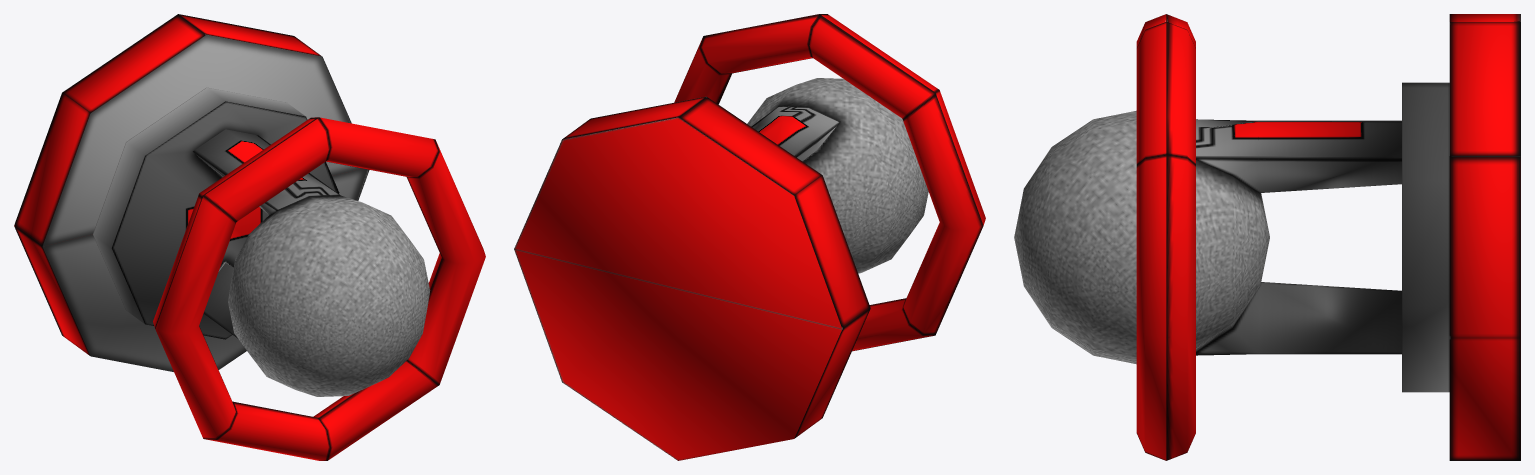
Rendered from reactor.fbx.
3 renders of one model, left to right at view 1: azimuth 30°, elevation 25°; view 2: azimuth 150°, elevation 25°; view 3: azimuth 270°, elevation 25°, orthographic. The views are drawn at different scales.
Visible parts, largest first — view 1: Reactor, Ring; view 2: Reactor, Ring; view 3: Reactor, Ring.
Boxes of the visible parts, bbox=[...] form: Reactor: bbox=[14, 14, 430, 396]; Ring: bbox=[153, 117, 485, 460]; Reactor: bbox=[514, 78, 928, 460]; Ring: bbox=[674, 14, 985, 351]; Reactor: bbox=[1014, 14, 1520, 460]; Ring: bbox=[1136, 14, 1195, 460].
Size of the model in its own units: 2 by 2 by 2.13.
1 material, 1 textured.
